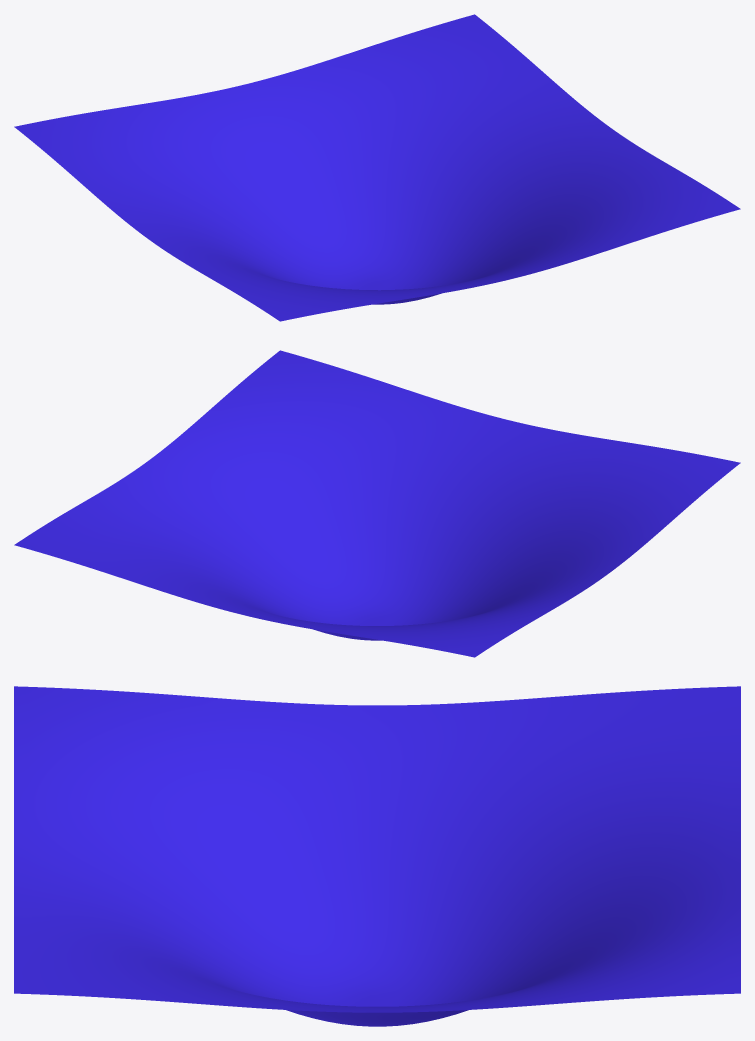
3 renders of one model, top to bottom at view 1: azimuth 30°, elevation 25°; view 2: azimuth 150°, elevation 25°; view 3: azimuth 270°, elevation 25°, orthographic. The views are drawn at different scales.
Visible parts, largest first — view 1: Plane; view 2: Plane; view 3: Plane.
Part boxes in pixels (x1,y1,x2,y2): Plane: [14, 14, 740, 321]; Plane: [14, 350, 740, 657]; Plane: [14, 686, 740, 1026].
Size of the model in its own units: 11.71 by 2.88 by 11.71.
